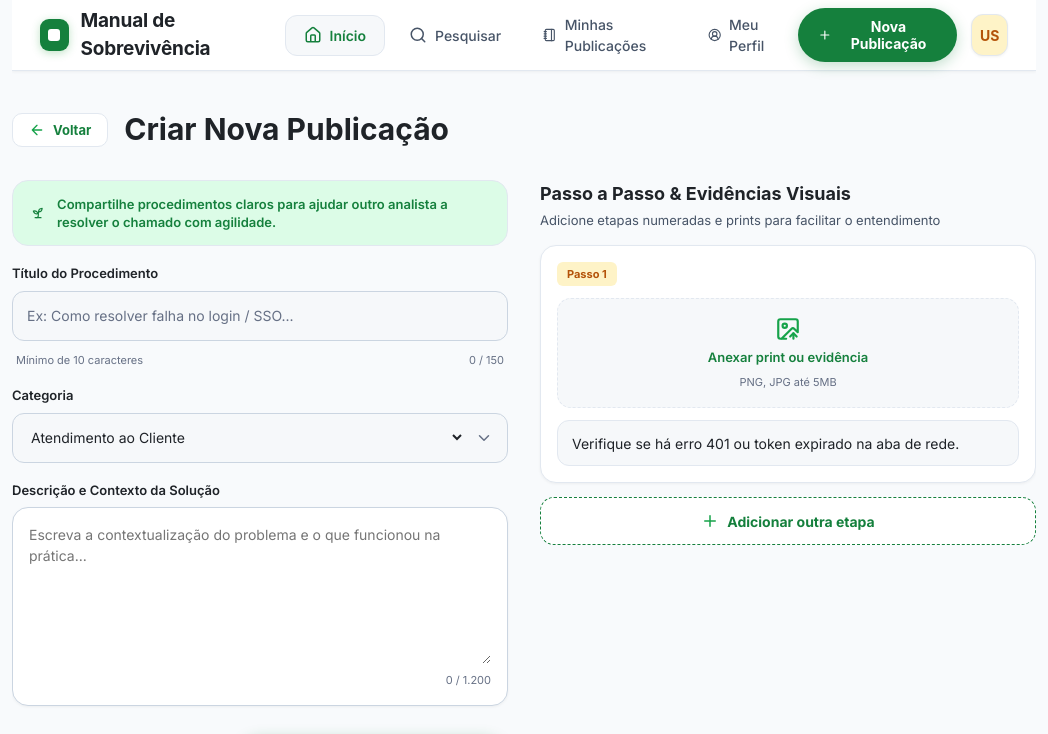
Test: NewPublication Page › permite adicionar e remover passos no tutorial
expect the text "Passo 1" is shown: met, box x1=557 y1=262 x2=617 y2=286
expect the text "Passo 2" is not shown: met
Step 1. Click the button "Adicionar outra etapa" → click(788, 521), box x1=540 y1=497 x2=1036 y2=545
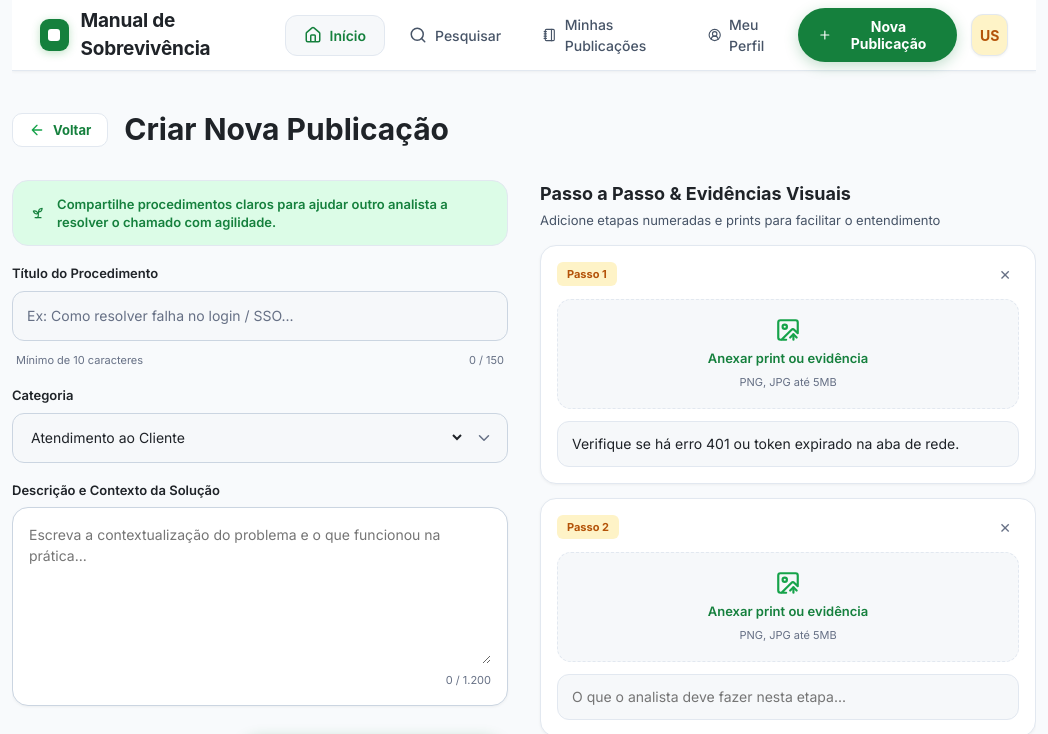
expect the text "Passo 2" is shown: met, box x1=557 y1=515 x2=619 y2=539
expect the button named "Remover passo" is shown: met
Step 2. Click the button named "Remover passo" → click(1005, 274), box x1=991 y1=262 x2=1019 y2=286
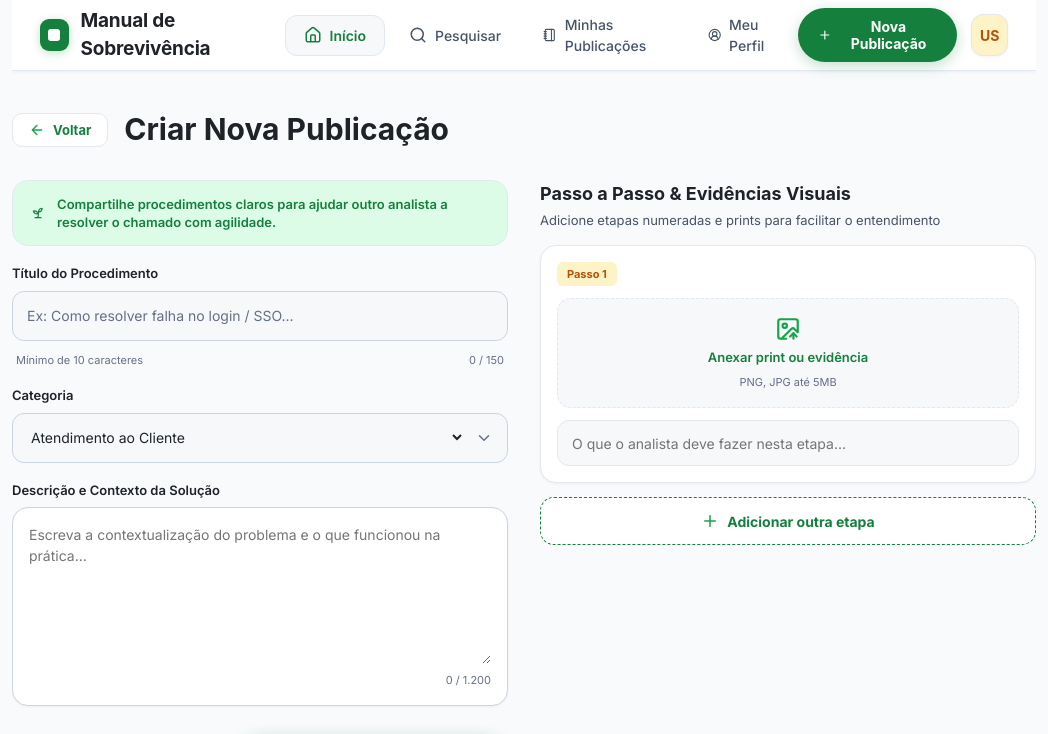
expect the text "Passo 2" is gone: met
